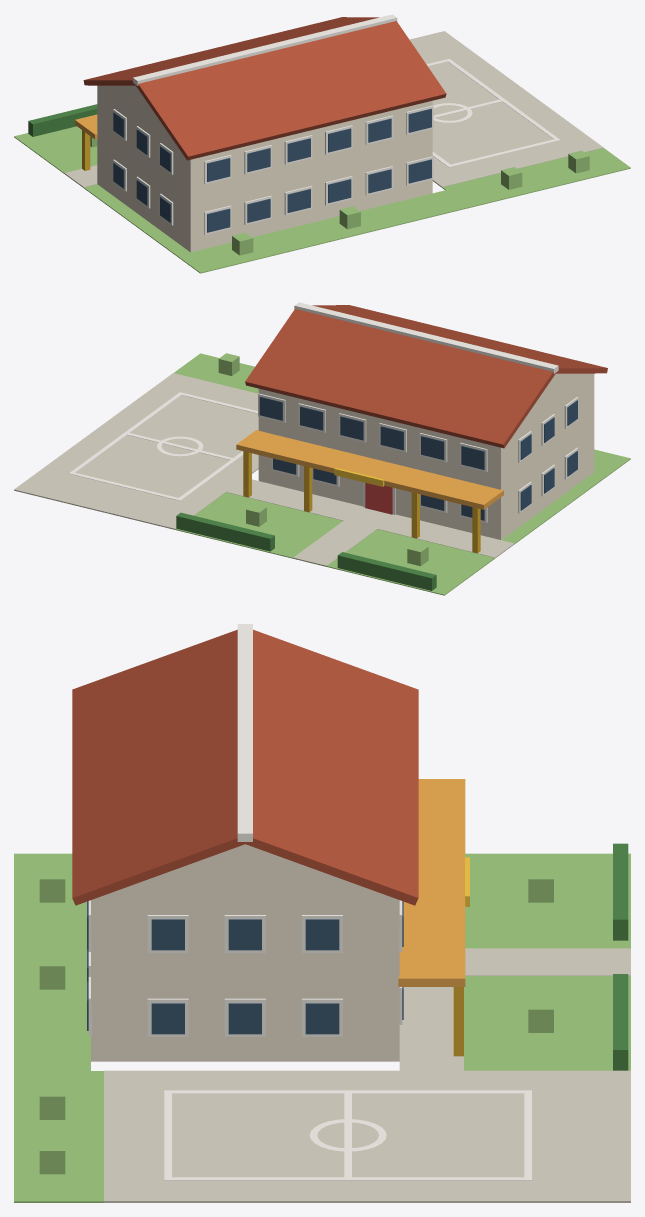
File: primary.glb
The picture shows the model from 3 angles, top to bottom: view 1: azimuth 30°, elevation 25°; view 2: azimuth 150°, elevation 25°; view 3: azimuth 270°, elevation 25°; orthographic projection. The views are drawn at different scales.
Parts seen in each view (by area): view 1: roof (×2), building, playground, yard, window_glass (×12), yard_lawn, ridge, lawn_front, tree_spot (×4), lawn_side, hedge, gable (+3 smaller); view 2: roof (×2), playground, building, lawn_front, awning, walkway, hedge (×2), window_glass (×6), ridge, path, yard_lawn, lawn_side (+6 smaller); view 3: roof (×2), playground, building, lawn_front, yard, awning, yard_lawn, gable, window_glass (×6), tree_spot (×6), walkway, path (+3 smaller).
Boxes of the visible parts, <box> form: roof (×2): <box>83,17,446,160</box>; building: <box>97,85,432,252</box>; playground: <box>409,31,603,187</box>; yard: <box>177,190,469,273</box>; window_glass (×12): <box>207,108,431,232</box>; yard_lawn: <box>442,148,630,207</box>; ridge: <box>133,14,397,85</box>; lawn_front: <box>14,126,97,173</box>; tree_spot (×4): <box>232,150,589,255</box>; lawn_side: <box>84,184,189,255</box>; hedge: <box>28,104,97,136</box>; gable: <box>100,85,171,137</box>; roof (×2): <box>245,305,607,448</box>; playground: <box>14,373,258,529</box>; building: <box>258,373,594,539</box>; lawn_front: <box>175,492,494,595</box>; awning: <box>236,430,503,509</box>; walkway: <box>226,479,514,558</box>; hedge (×2): <box>176,512,436,590</box>; window_glass (×6): <box>259,396,484,469</box>; ridge: <box>294,302,558,373</box>; path: <box>293,521,376,565</box>; yard_lawn: <box>174,353,258,393</box>; lawn_side: <box>501,472,607,544</box>; roof (×2): <box>72,629,418,905</box>; playground: <box>104,1070,630,1202</box>; building: <box>91,894,399,1061</box>; lawn_front: <box>464,853,630,1070</box>; yard: <box>14,853,90,1070</box>; awning: <box>398,779,465,986</box>; yard_lawn: <box>14,1071,103,1202</box>; gable: <box>108,844,381,893</box>; window_glass (×6): <box>151,919,339,1034</box>; tree_spot (×6): <box>39,868,553,1174</box>; walkway: <box>399,987,463,1070</box>; path: <box>465,948,630,975</box>.
Size of the model in its own units: 32 by 10.08 by 24.
